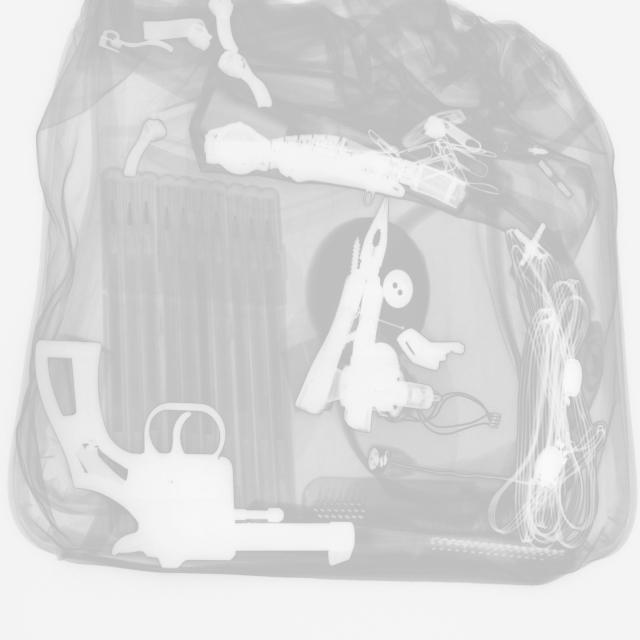pistol: (32, 334, 359, 576)
